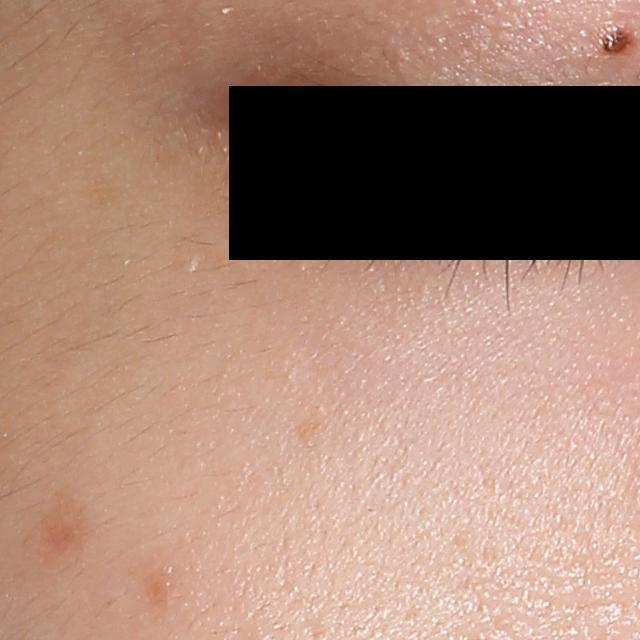nevus: (597, 25, 634, 54)
